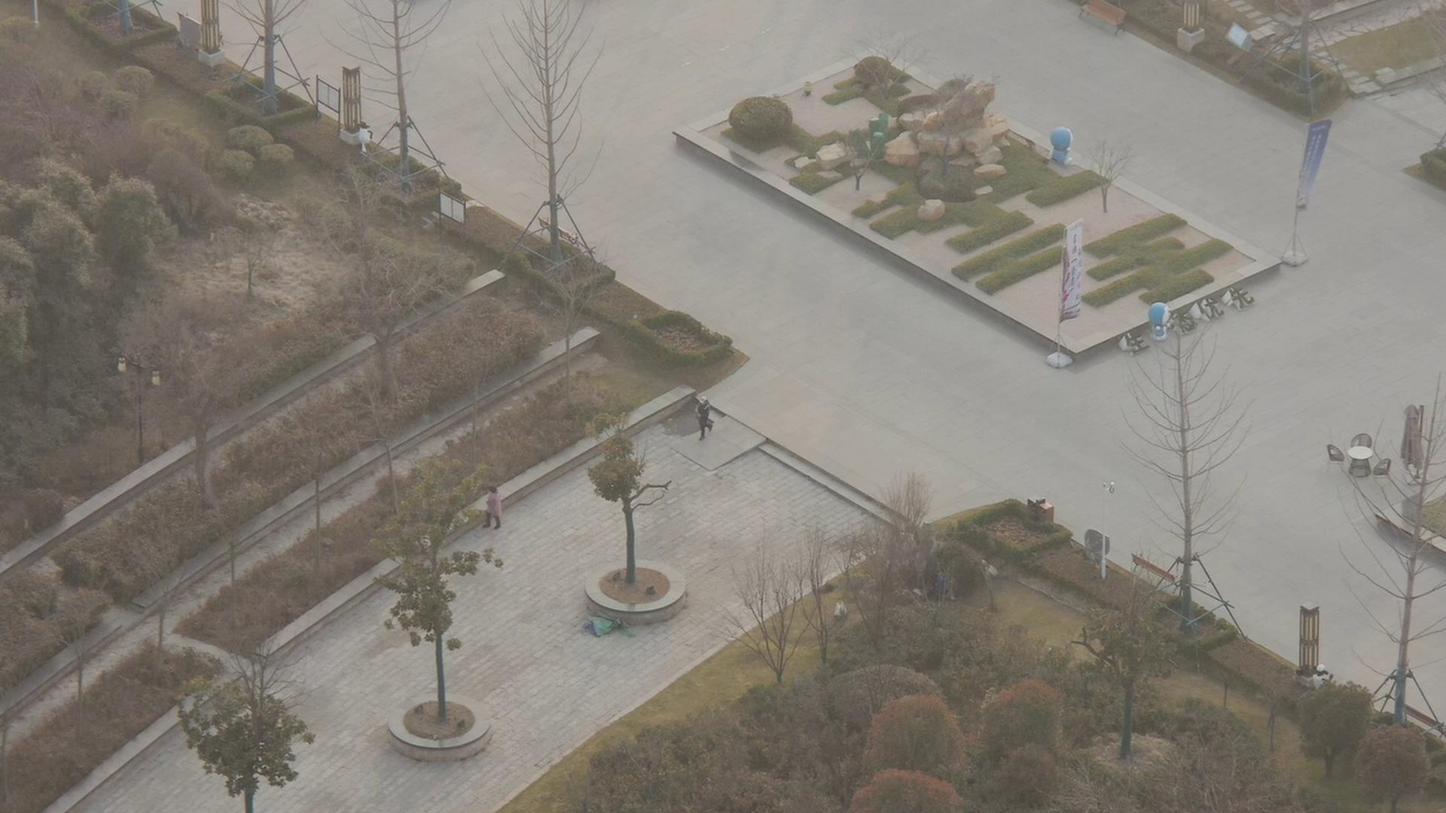human: (486, 470, 511, 532), (695, 385, 722, 442)
